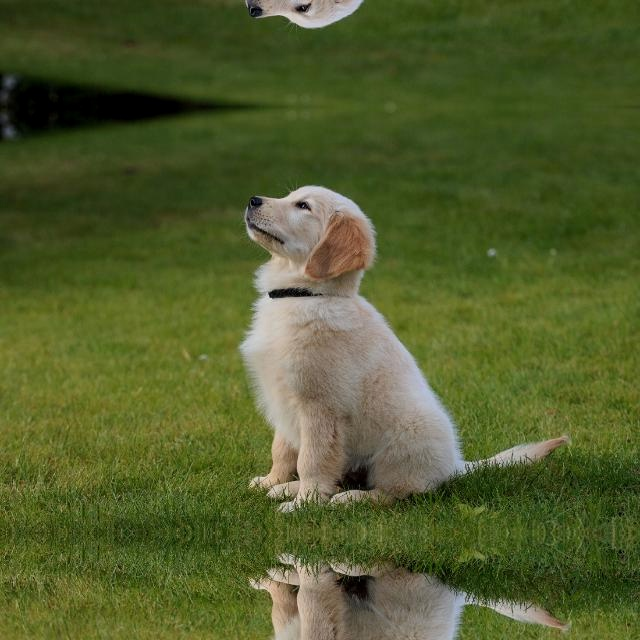dog: (208, 168, 465, 516), (208, 548, 465, 640), (208, 0, 465, 44)
